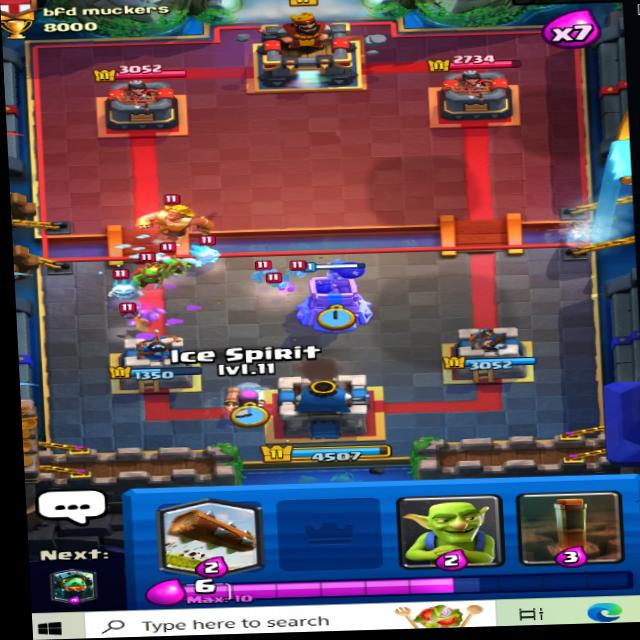bats: (107, 299, 153, 324)
golden-knight: (131, 192, 224, 242)
ice-spirit: (97, 273, 145, 303)
spear-goblin: (149, 244, 195, 274), (134, 258, 169, 288)
